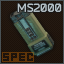MS2000 Marker: (0, 0, 64, 64)
